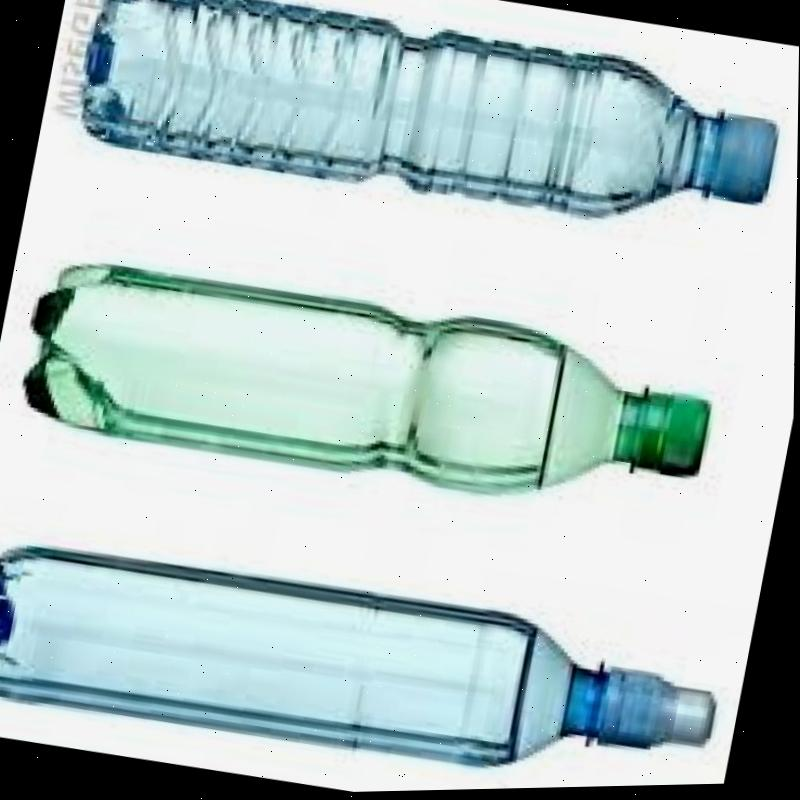botella: (18, 241, 723, 541), (0, 524, 727, 800), (66, 0, 789, 265)
